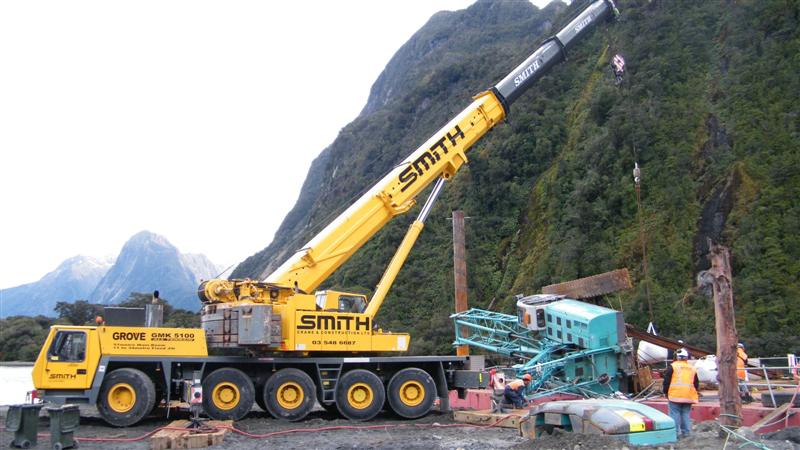crane: (31, 1, 637, 428)
